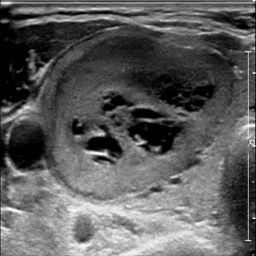mass: (44, 34, 238, 196)
